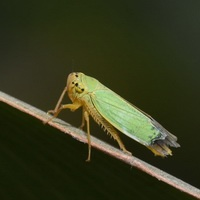insect: (48, 72, 179, 161)
